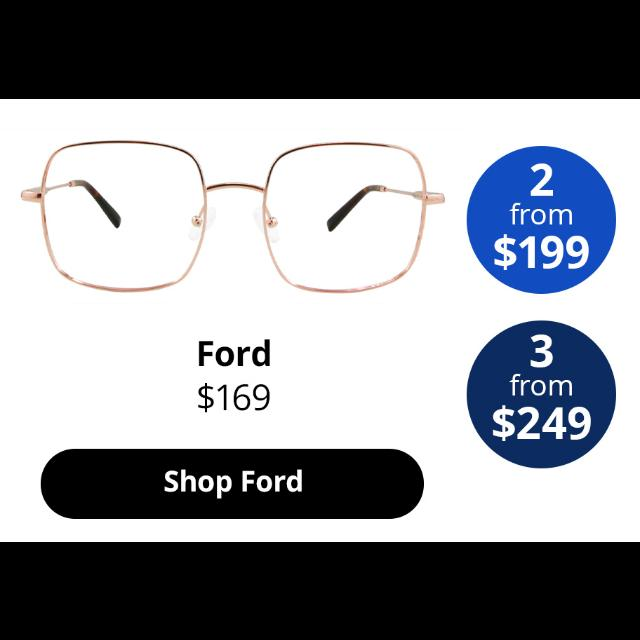glasses: (15, 134, 449, 300)
